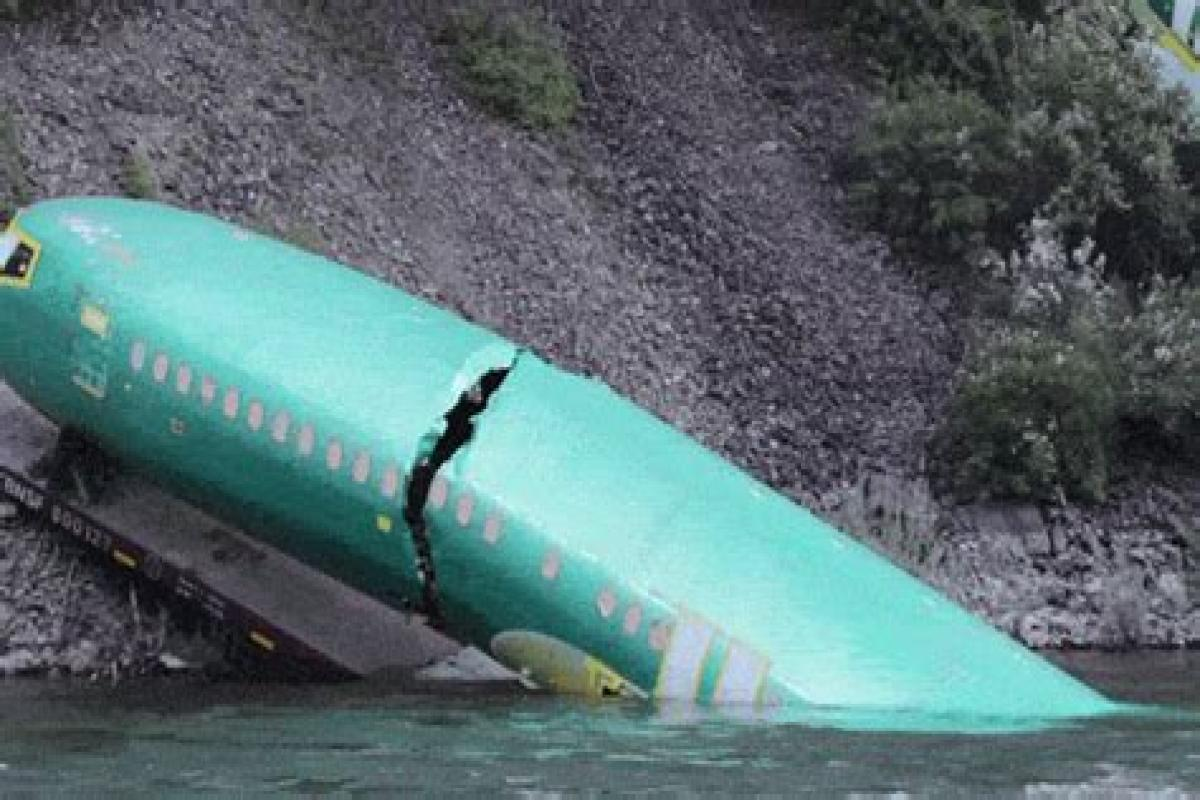Fuselage_damage: (388, 335, 553, 636)
